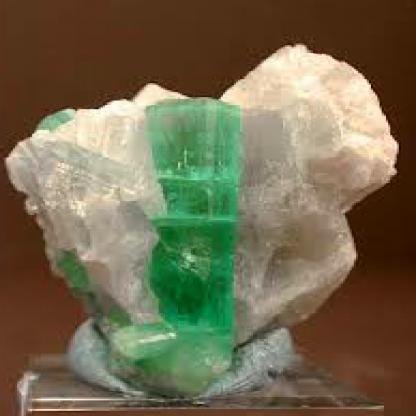Metamorphic_Marble: (2, 38, 401, 395)
